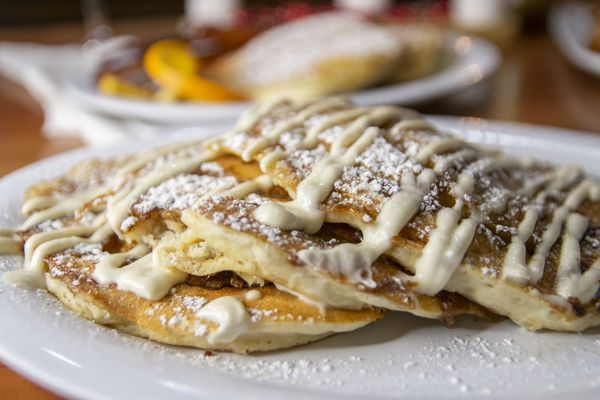sushi: (545, 1, 600, 83)
